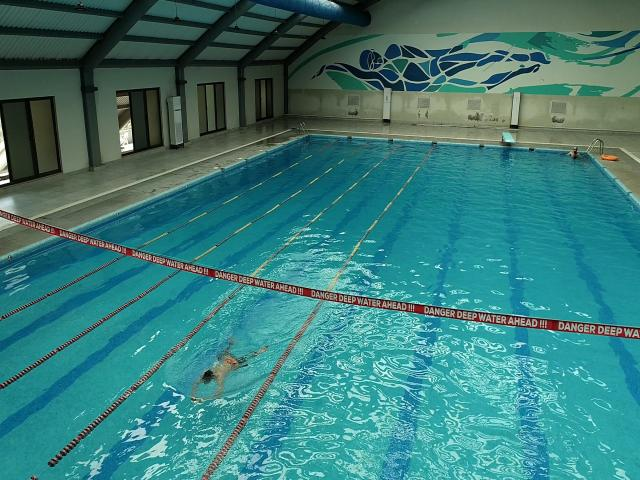swimming: (185, 326, 272, 406)
